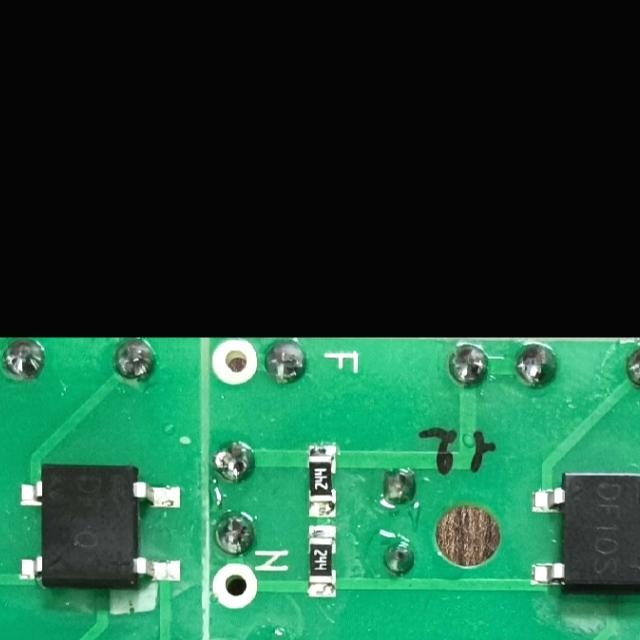chip-resistor: (305, 443, 339, 520), (305, 524, 338, 601)
ic: (13, 459, 185, 590), (528, 468, 640, 592)
